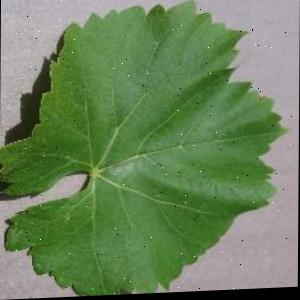Folha: (0, 0, 291, 300)
